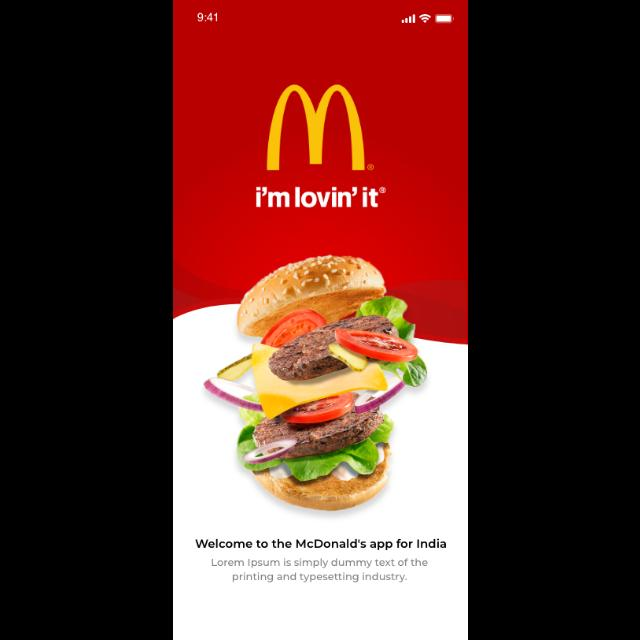image: (203, 255, 427, 511), (256, 84, 386, 208)
text: (210, 557, 428, 583), (194, 539, 446, 551)
uppertaskbar: (196, 13, 454, 25)
